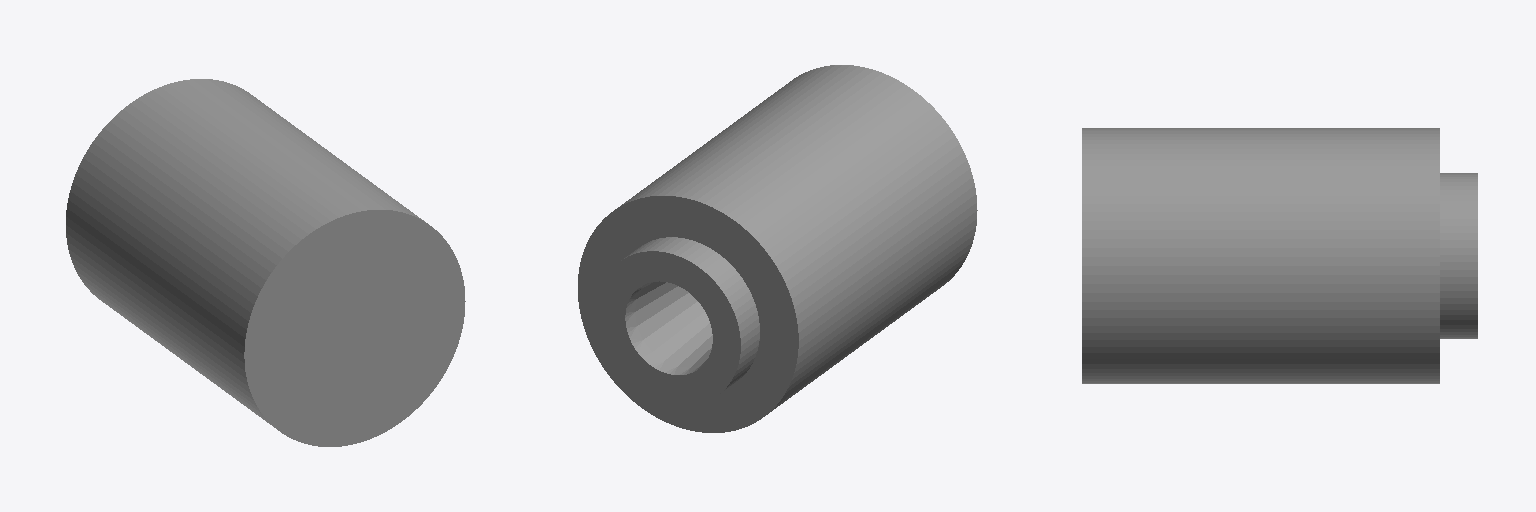
Rendered from spindelfutter.obj.
The picture shows the model from 3 angles: view 1: azimuth 30°, elevation 25°; view 2: azimuth 150°, elevation 25°; view 3: azimuth 270°, elevation 25°; orthographic projection.
Visible parts, largest first — view 1: toolfuter_spannfutter; view 2: toolfuter_spannfutter; view 3: toolfuter_spannfutter.
Part boxes in pixels (x1,y1,x2,y2): toolfuter_spannfutter: (66, 79, 465, 446); toolfuter_spannfutter: (578, 65, 977, 432); toolfuter_spannfutter: (1082, 128, 1477, 383).
Size of the model in its own units: 40 by 40 by 62.